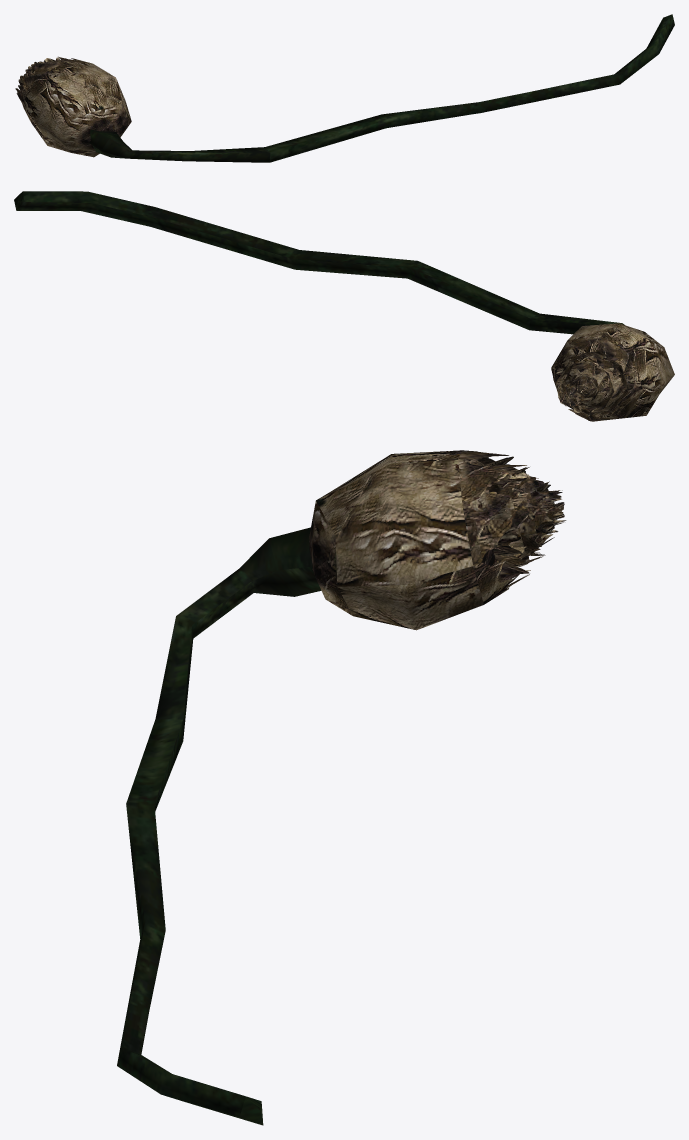
Rendered from rotten_rose.dae.
3 views of the same model, one above another, from view 1: azimuth 30°, elevation 25°; view 2: azimuth 150°, elevation 25°; view 3: azimuth 270°, elevation 25° (orthographic). The views are drawn at different scales.
Visible parts, largest first — view 1: orchid_mesh, polySurface5; view 2: orchid_mesh, polySurface5; view 3: polySurface5, orchid_mesh.
Part boxes in pixels (<box>): orchid_mesh: <box>89,14,674,162</box>; polySurface5: <box>15,56,131,157</box>; orchid_mesh: <box>14,191,624,334</box>; polySurface5: <box>551,323,674,421</box>; polySurface5: <box>309,450,566,630</box>; orchid_mesh: <box>117,527,321,1125</box>.
Bounding box in the file's own units: 0.9277 × 0.1179 × 0.3051.
